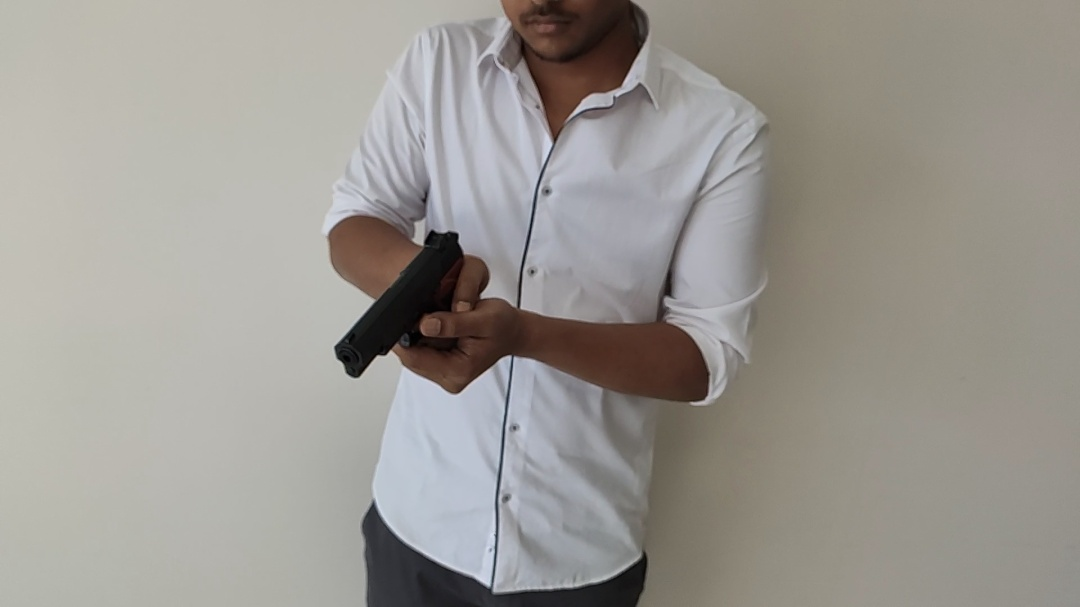gun: (175, 51, 675, 574)
